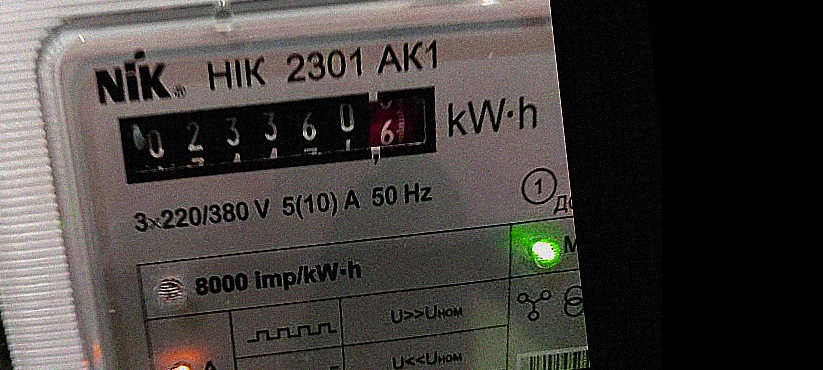0: (141, 123, 167, 160), (333, 98, 358, 135)
2: (181, 117, 205, 154)
3: (219, 113, 243, 150), (258, 108, 280, 143)
6: (295, 106, 319, 142), (374, 113, 396, 148)
screen: (102, 68, 462, 205)
